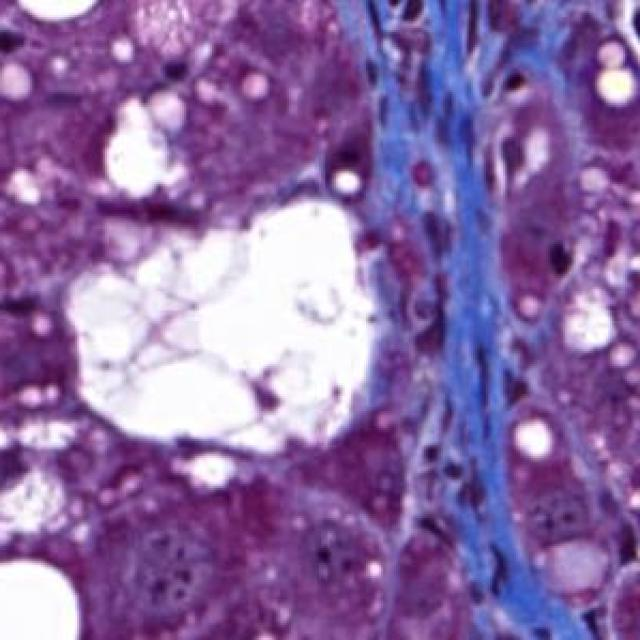ballooning: (66, 201, 375, 452), (105, 91, 185, 197), (0, 470, 65, 543), (564, 288, 615, 352)
